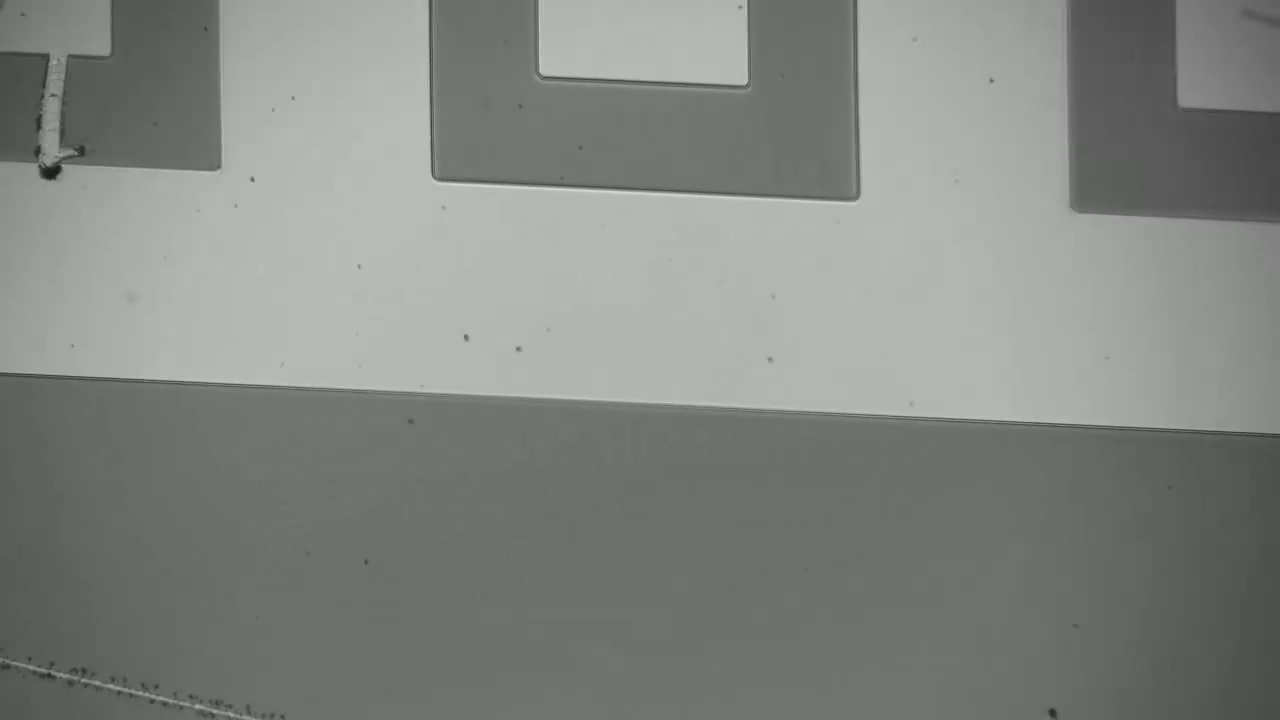Short_circuit: (18, 25, 87, 196)
scratch: (7, 621, 302, 720)
